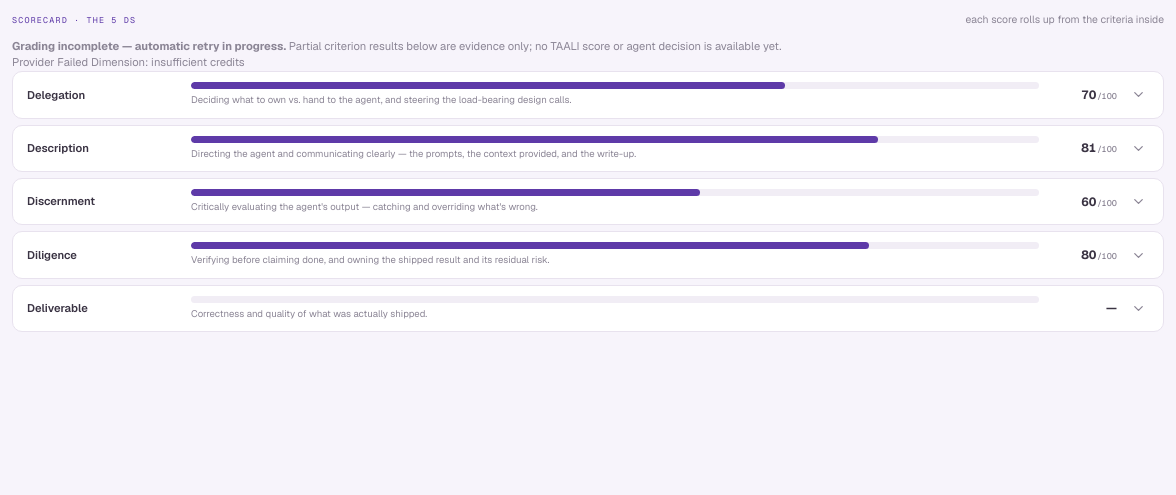
Test: AssessmentScorecard › surfaces partial grading errors without rendering them as zero scores
expect the message with test id "assessment-grading-pending" is shown: met, box x1=12 y1=39 x2=782 y2=69
expect the text "Provider Failed Dimension: insufficient credits" is shown: met, box x1=12 y1=55 x2=245 y2=69
Click the button "Discernment".
click(61, 201)  # box x1=13 y1=179 x2=1163 y2=224
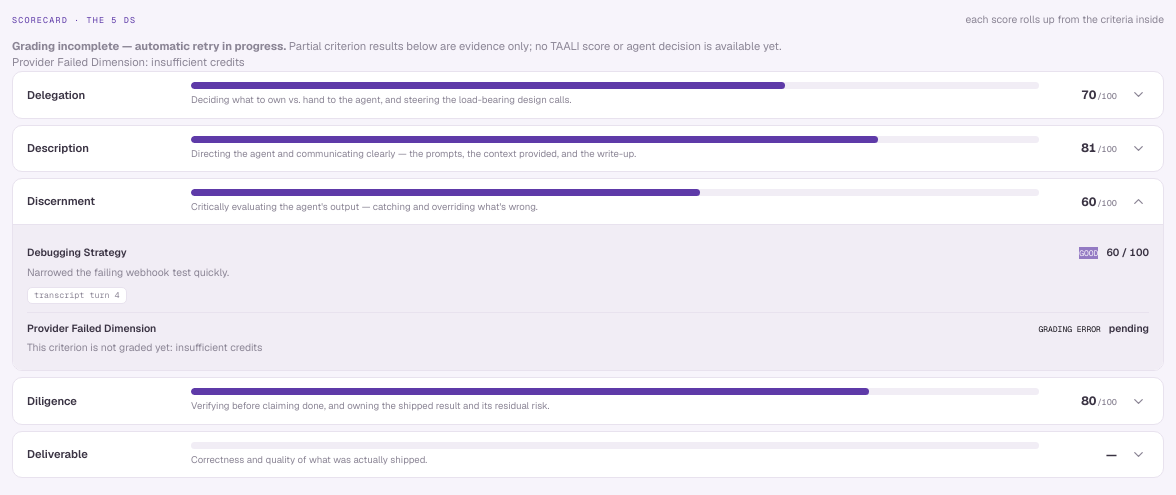
expect the text "pending" is shown: met, box x1=1109 y1=321 x2=1149 y2=336
